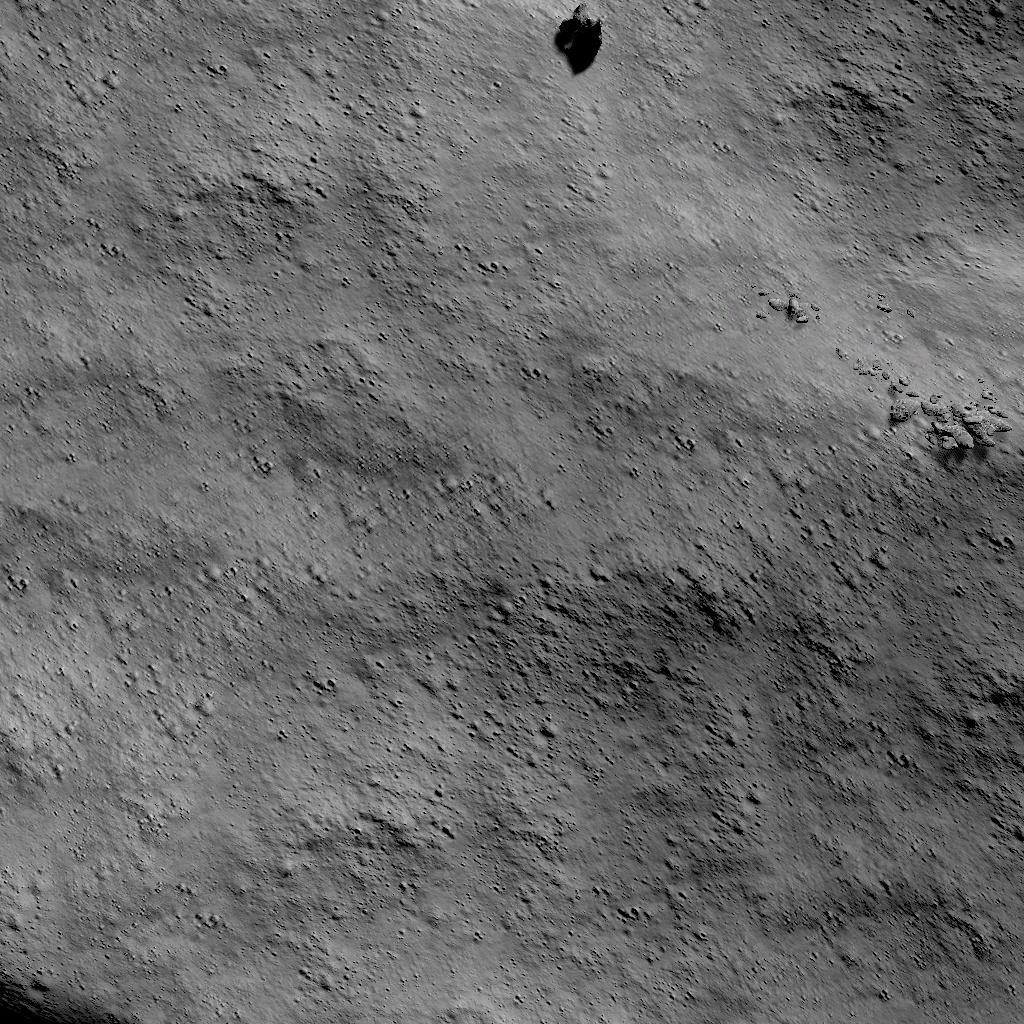Plan surface: (13, 489, 1024, 1010), (0, 0, 516, 464), (611, 0, 1024, 282)
